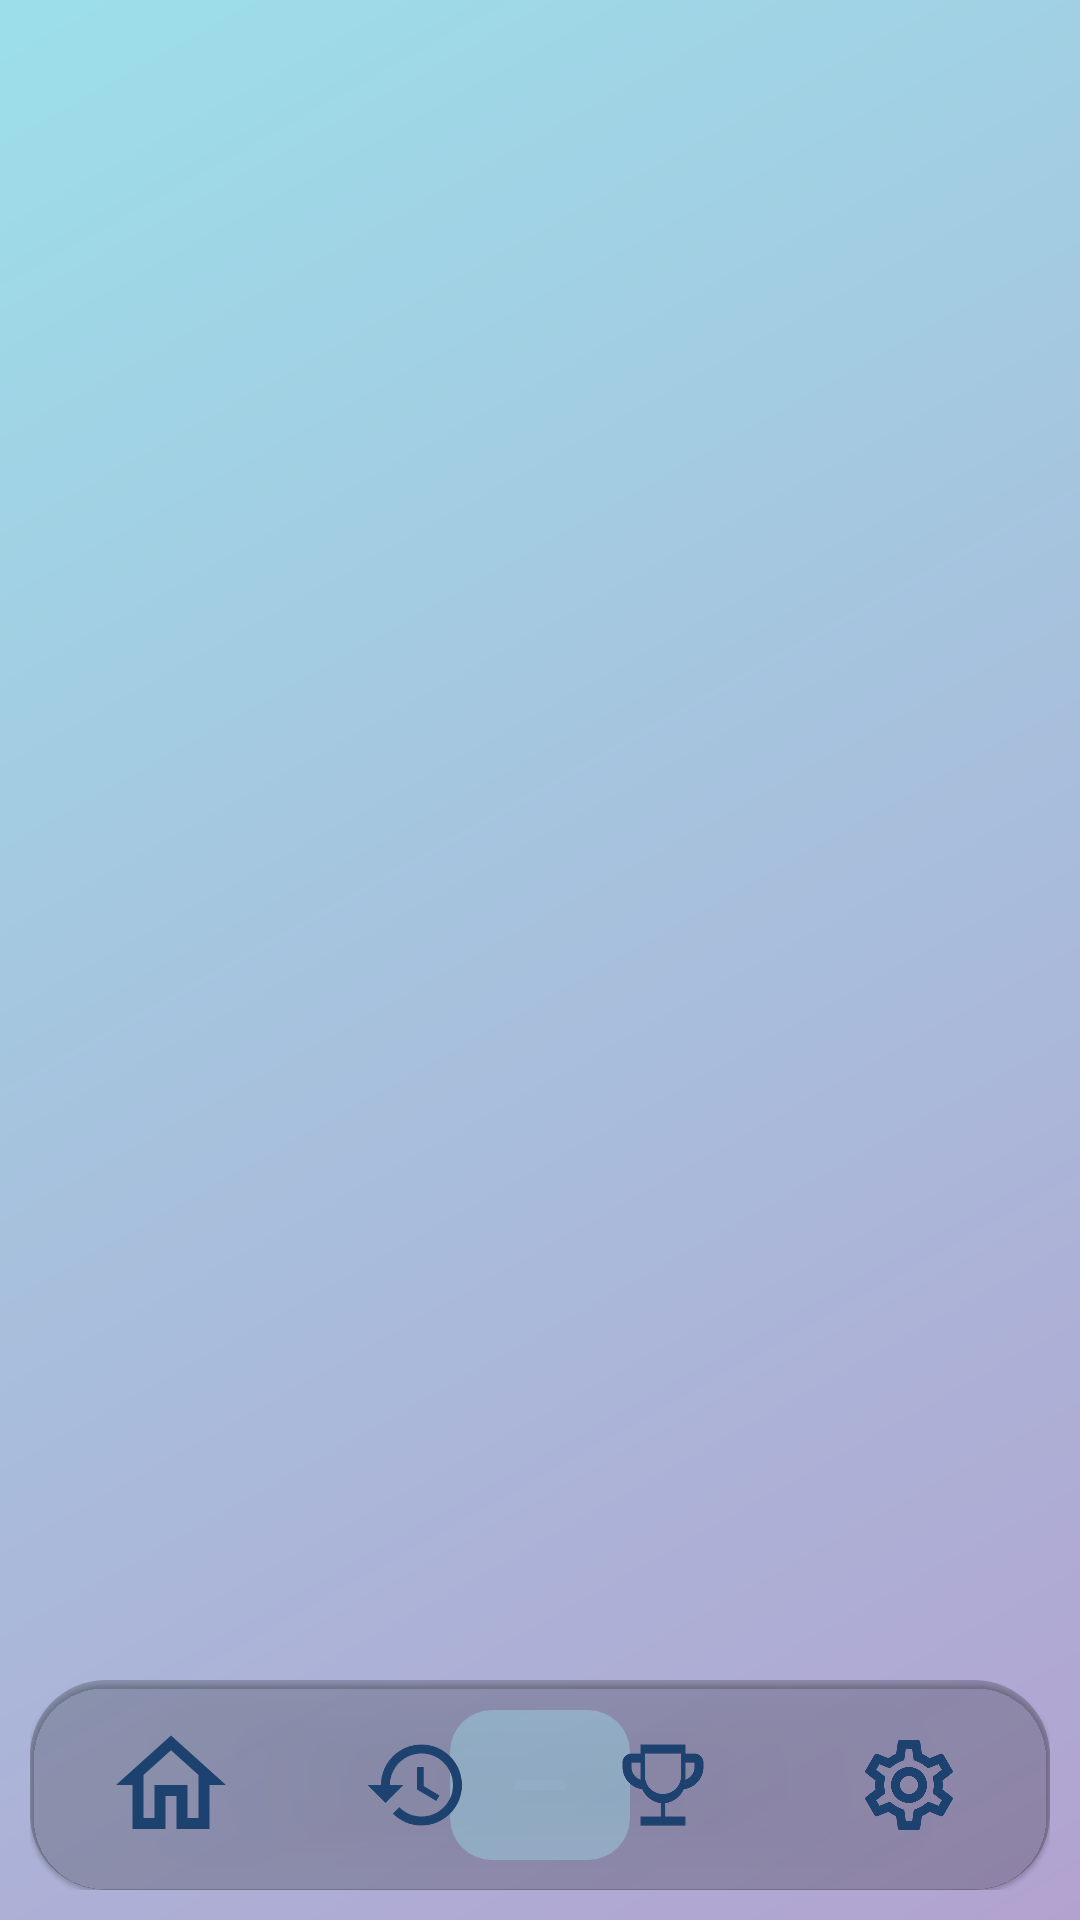

Named icons in this screenshot (1080 × 1920) and their bounding boxes, region(x1, y1, x2, y2):
Home: region(116, 1736, 226, 1829)
Leaderboard: region(609, 1731, 704, 1839)
Recently: region(368, 1731, 471, 1839)
Settings: region(865, 1740, 953, 1830)
